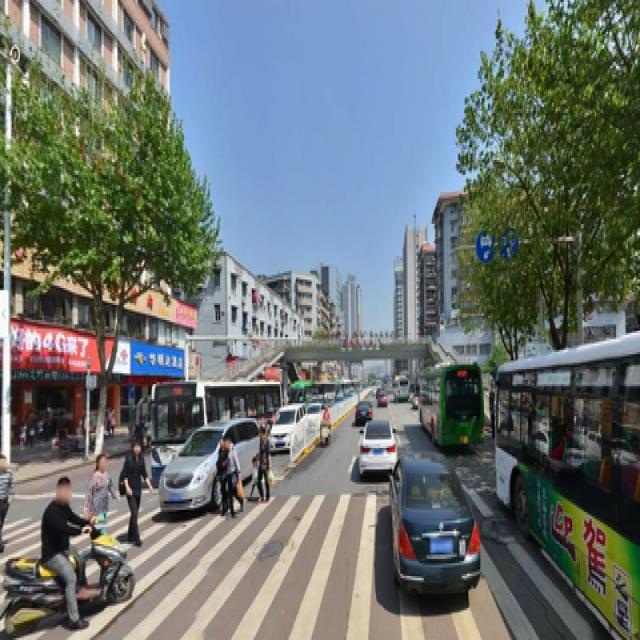meta: (39, 85, 181, 438)
